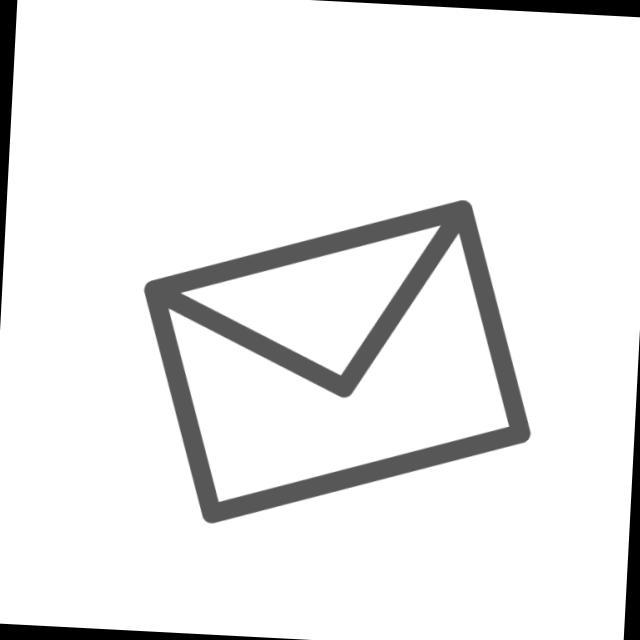letter: (130, 180, 548, 546)
